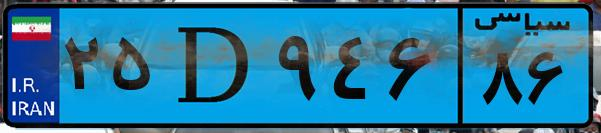2: (57, 26, 110, 100)
4: (330, 28, 385, 110)
5: (110, 28, 158, 98)
6: (385, 28, 445, 110), (525, 38, 570, 115)
8: (475, 38, 525, 113)
9: (270, 28, 330, 110)
D: (158, 12, 270, 120)
